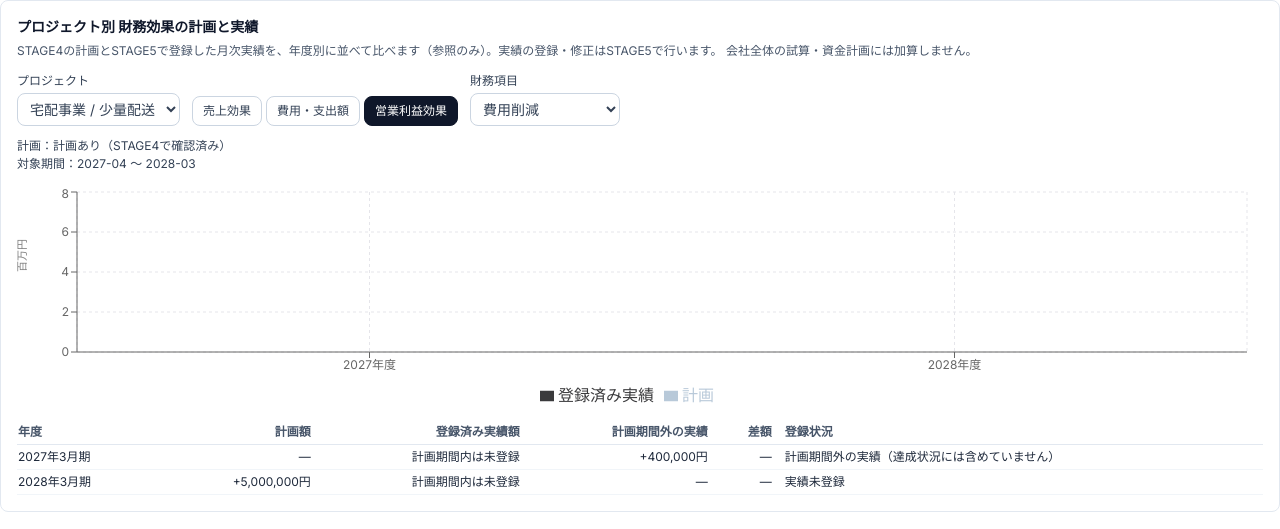
PlanActualByProject（STAGE6のプロジェクト別 計画と実績） › 費用・支出額に切り替えると、OPEXの計画と登録済み実績を正の金額で示す
This screenshot has width=1280, height=529.
Step 1. Click the button "費用・支出額" → click(313, 110), box [266, 96, 360, 126]
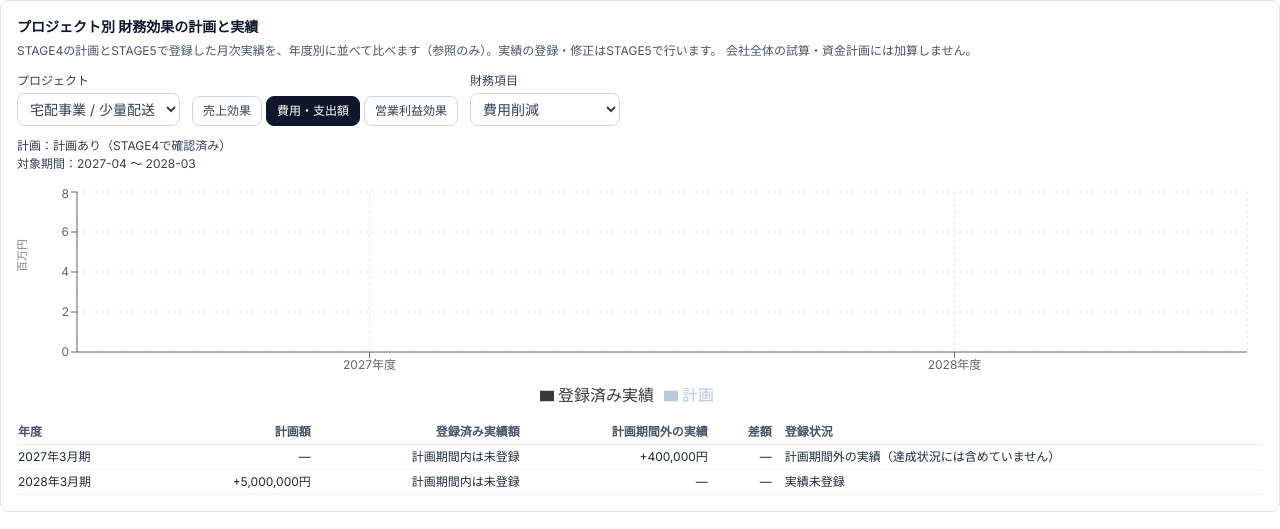
Step 2. Select "外注費（検証用）" in the dropdown labelled "財務項目" → (545, 109), box [470, 92, 620, 126]
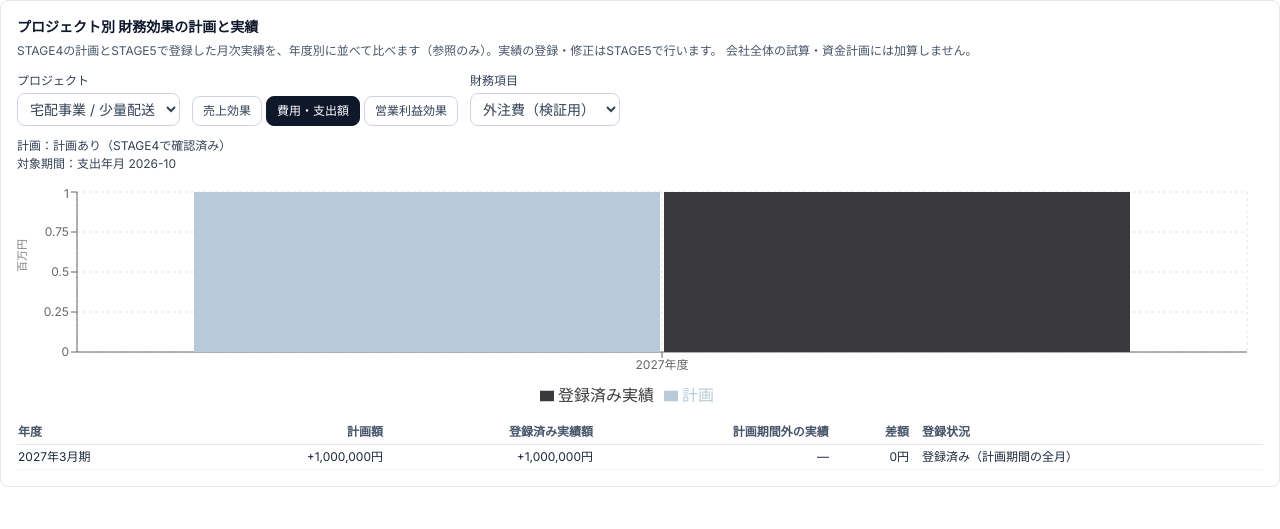
Check: the text "2027年3月期" is shown, box [17, 444, 202, 469]
Check: the text "+1,000,000円" is shown 2 times, box [202, 444, 395, 469]; [395, 444, 605, 469]
Check: the text "登録済み（計画期間の全月）" is shown, box [921, 444, 1263, 469]
